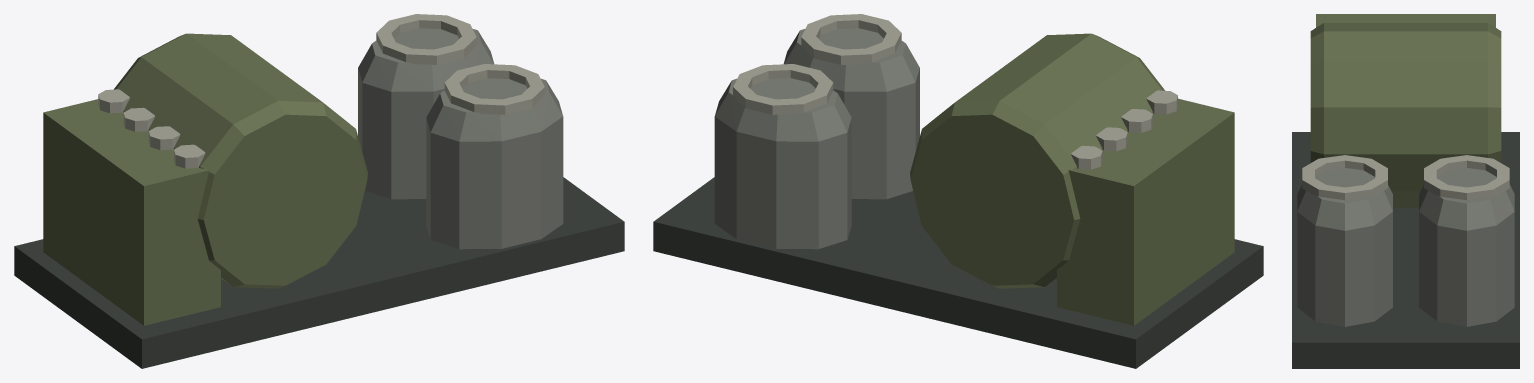
The model's file is electroharvester.obj.
3 views of the same model, side by side, from view 1: azimuth 30°, elevation 25°; view 2: azimuth 150°, elevation 25°; view 3: azimuth 270°, elevation 25° (orthographic). The views are drawn at different scales.
Parts seen in each view (by area): view 1: electroharvester; view 2: electroharvester; view 3: electroharvester.
Boxes of the visible parts, x1,y1,x2,y2 form: electroharvester: [14, 14, 624, 368]; electroharvester: [653, 14, 1263, 368]; electroharvester: [1292, 14, 1519, 368].
Size of the model in its own units: 1.88 by 0.81 by 0.86.
